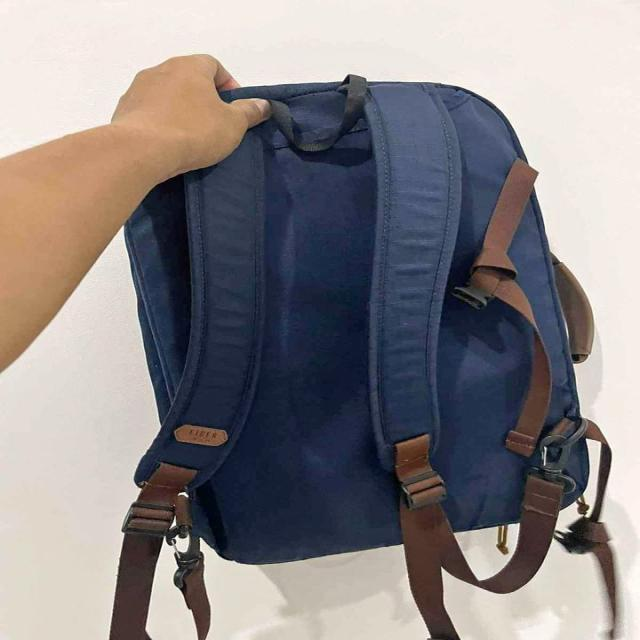bag: (128, 63, 590, 567)
